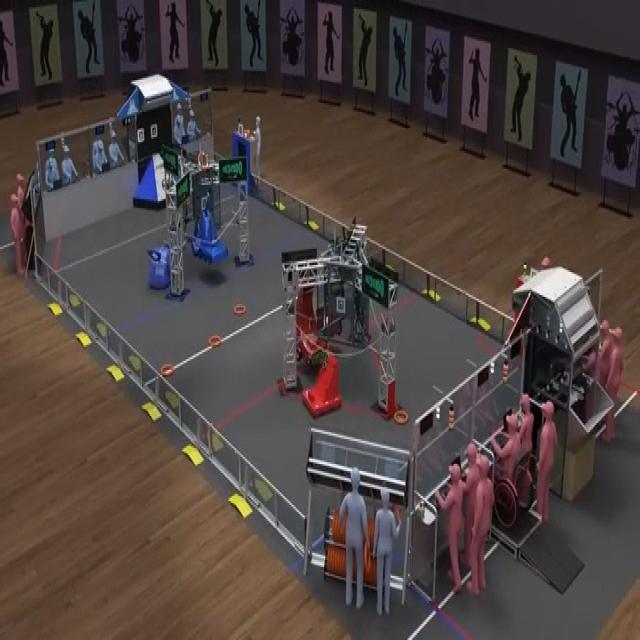notes: (160, 362, 177, 378), (394, 410, 408, 423), (209, 335, 222, 348), (233, 305, 247, 316)
